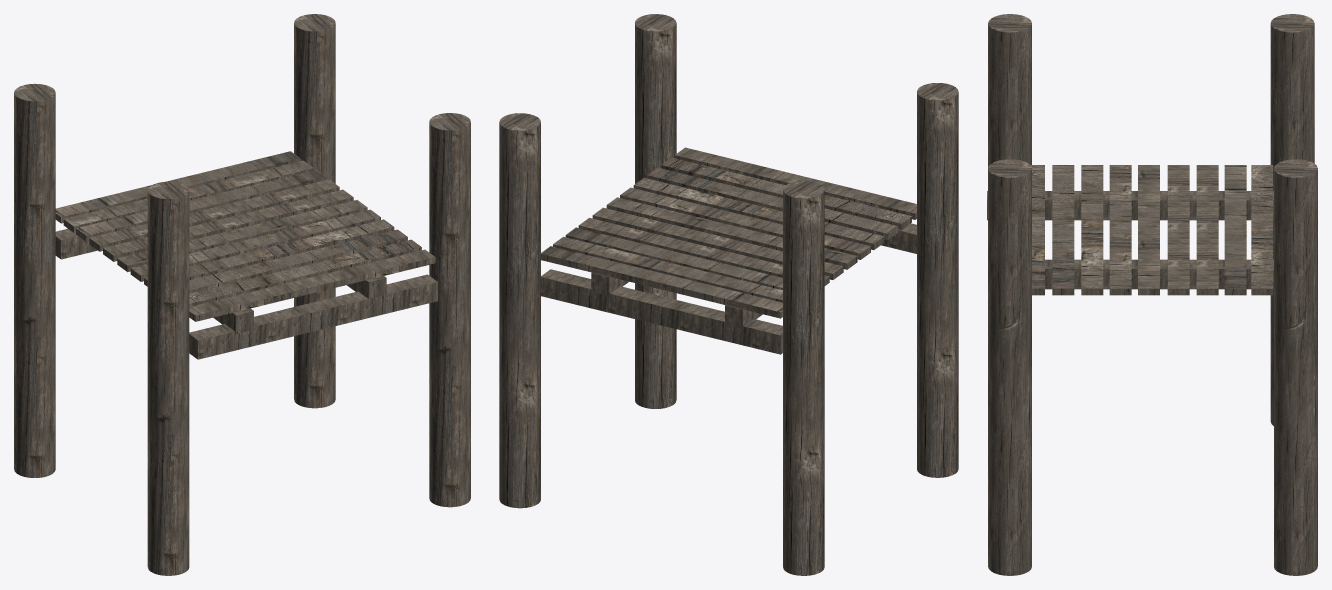
Rendered from plataformacomkp.fbx.
The picture shows the model from 3 angles, left to right: view 1: azimuth 30°, elevation 25°; view 2: azimuth 150°, elevation 25°; view 3: azimuth 270°, elevation 25°; orthographic projection. The views are drawn at different scales.
Visible parts, largest first — view 1: marco.002; view 2: marco.002; view 3: marco.002.
Boxes of the visible parts, x1,y1,x2,y2 form: marco.002: (14,14,470,575); marco.002: (499,14,958,575); marco.002: (987,14,1317,575).
Bounding box in the file's own units: 529 × 600 × 452.
2 materials, 2 textured.
